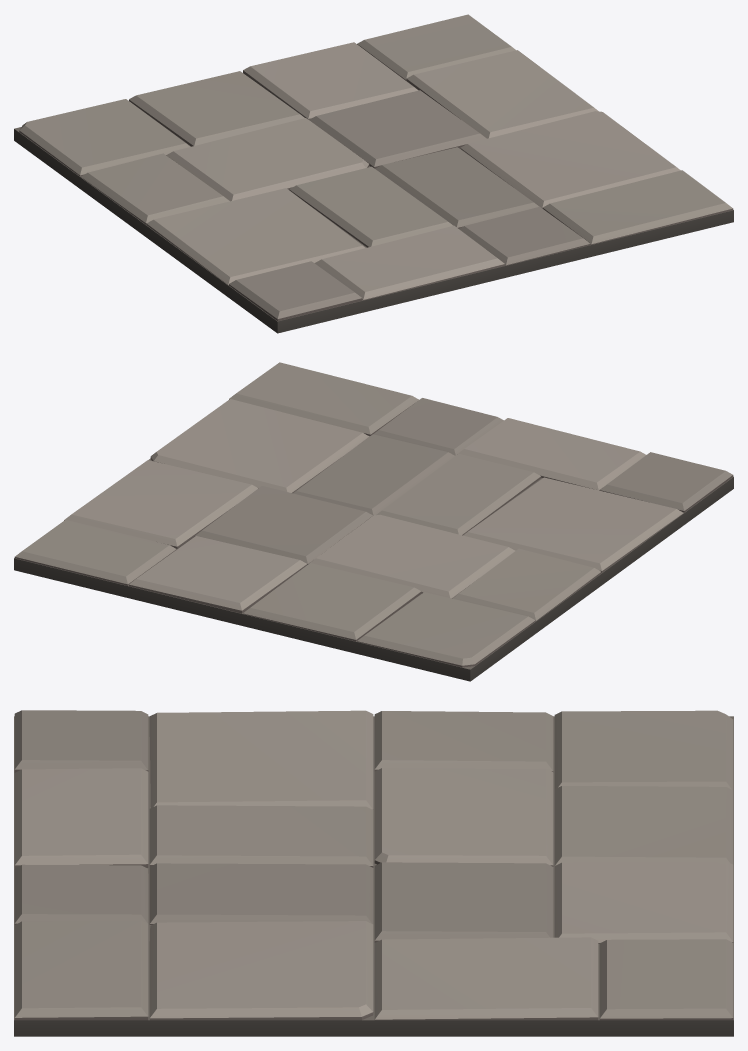
The model's file is floor_flagstones_large_A.glb.
3 renders of one model, top to bottom at view 1: azimuth 30°, elevation 25°; view 2: azimuth 150°, elevation 25°; view 3: azimuth 270°, elevation 25°, orthographic. The views are drawn at different scales.
Visible parts, largest first — view 1: Item; view 2: Item; view 3: Item.
Part boxes in pixels (<box>): Item: <box>14,14,733,333</box>; Item: <box>14,362,733,681</box>; Item: <box>14,710,733,1036</box>.
Bounding box in the file's own units: 4 × 0.1636 × 4.
1 material, 1 textured.
